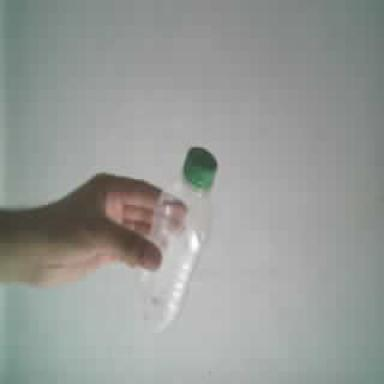bottle: (139, 147, 217, 328)
